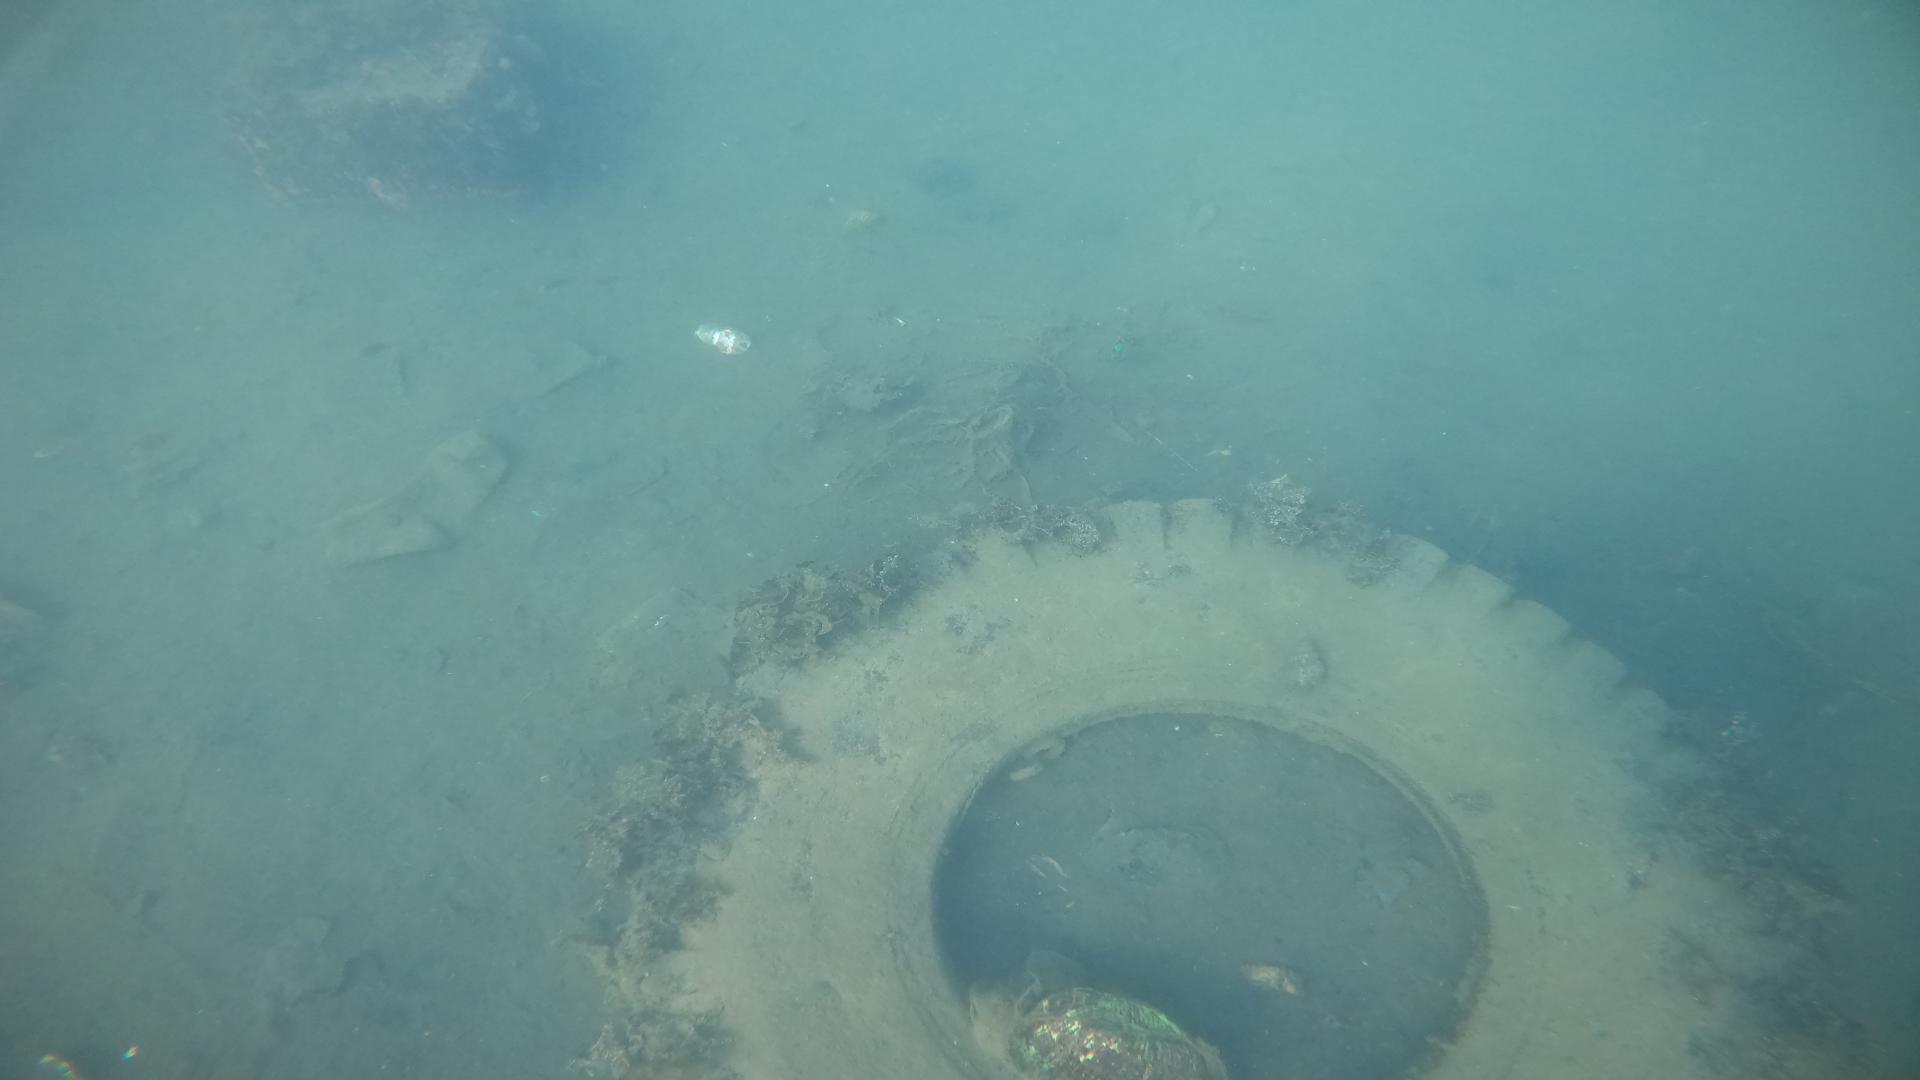tire: (655, 491, 1789, 1080)
